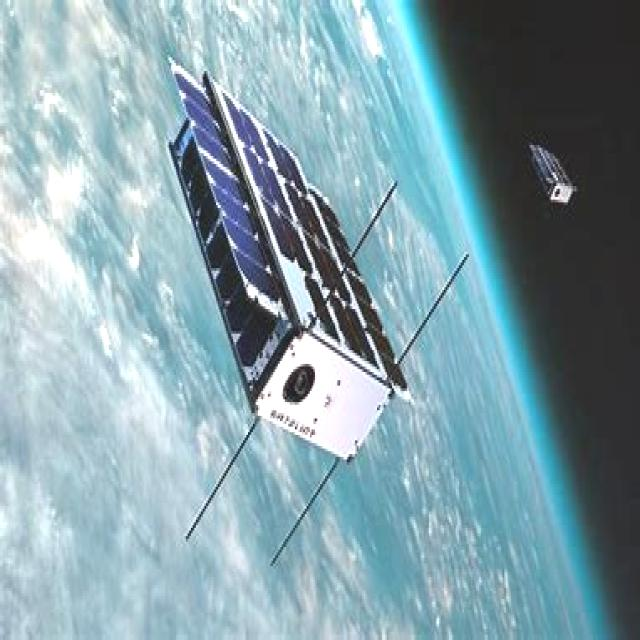medium_debris: (162, 68, 432, 472), (528, 128, 590, 220)
